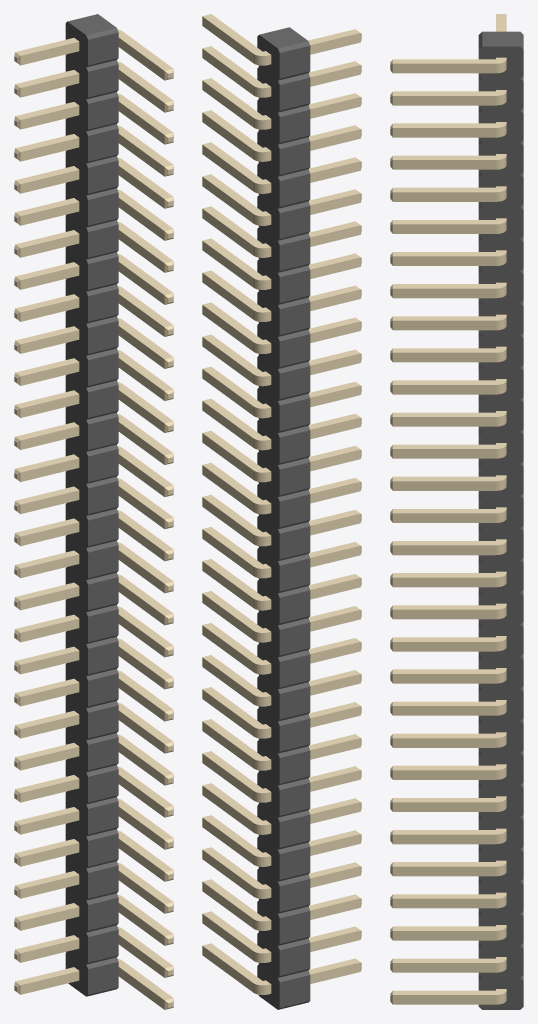
The model's file is PinHeader_1x30_P1.00mm_Horizontal.glb.
The picture shows the model from 3 angles, left to right: view 1: azimuth 30°, elevation 25°; view 2: azimuth 210°, elevation 25°; view 3: azimuth 270°, elevation 25°; orthographic projection.
Visible parts, largest first — view 1: Shape_IndexedFaceSet.004, Shape_IndexedFaceSet.010, Shape_IndexedFaceSet.028, Shape_IndexedFaceSet.034, Shape_IndexedFaceSet.118, Shape_IndexedFaceSet.130, Shape_IndexedFaceSet.154, Shape_IndexedFaceSet.160, Shape_IndexedFaceSet.166, Shape_IndexedFaceSet.022, Shape_IndexedFaceSet.040, Shape_IndexedFaceSet.046 (+110 smaller); view 2: Shape_IndexedFaceSet.003, Shape_IndexedFaceSet.115, Shape_IndexedFaceSet.043, Shape_IndexedFaceSet.049, Shape_IndexedFaceSet.055, Shape_IndexedFaceSet.109, Shape_IndexedFaceSet.175, Shape_IndexedFaceSet.013, Shape_IndexedFaceSet.019, Shape_IndexedFaceSet.079, Shape_IndexedFaceSet.085, Shape_IndexedFaceSet.091 (+110 smaller); view 3: Shape_IndexedFaceSet.003, Shape_IndexedFaceSet.495, Shape_IndexedFaceSet.445, Shape_IndexedFaceSet.450, Shape_IndexedFaceSet.456, Shape_IndexedFaceSet.510, Shape_IndexedFaceSet.530, Shape_IndexedFaceSet.536, Shape_IndexedFaceSet.540, Shape_IndexedFaceSet.566, Shape_IndexedFaceSet.570, Shape_IndexedFaceSet.425 (+50 smaller).
Part boxes in pixels (box(x1,y1,x2,y2)): Shape_IndexedFaceSet.004: box(65, 21, 87, 996); Shape_IndexedFaceSet.010: box(88, 64, 118, 97); Shape_IndexedFaceSet.028: box(88, 160, 118, 193); Shape_IndexedFaceSet.034: box(88, 192, 118, 225); Shape_IndexedFaceSet.118: box(88, 641, 118, 674); Shape_IndexedFaceSet.130: box(88, 705, 118, 738); Shape_IndexedFaceSet.154: box(88, 833, 118, 866); Shape_IndexedFaceSet.160: box(88, 865, 118, 898); Shape_IndexedFaceSet.166: box(88, 897, 118, 930); Shape_IndexedFaceSet.022: box(88, 128, 118, 161); Shape_IndexedFaceSet.040: box(88, 224, 118, 257); Shape_IndexedFaceSet.046: box(88, 256, 118, 289); Shape_IndexedFaceSet.003: box(257, 35, 279, 1009); Shape_IndexedFaceSet.115: box(279, 622, 310, 655); Shape_IndexedFaceSet.043: box(279, 238, 310, 270); Shape_IndexedFaceSet.049: box(279, 270, 310, 302); Shape_IndexedFaceSet.055: box(279, 302, 310, 334); Shape_IndexedFaceSet.109: box(279, 590, 310, 623); Shape_IndexedFaceSet.175: box(279, 943, 310, 975); Shape_IndexedFaceSet.013: box(279, 78, 310, 110); Shape_IndexedFaceSet.019: box(279, 110, 310, 142); Shape_IndexedFaceSet.079: box(279, 430, 310, 462); Shape_IndexedFaceSet.085: box(279, 462, 310, 495); Shape_IndexedFaceSet.091: box(279, 494, 310, 527); Shape_IndexedFaceSet.003: box(478, 46, 523, 1009); Shape_IndexedFaceSet.495: box(392, 545, 495, 555); Shape_IndexedFaceSet.445: box(392, 288, 495, 298); Shape_IndexedFaceSet.450: box(392, 320, 495, 330); Shape_IndexedFaceSet.456: box(392, 352, 495, 362); Shape_IndexedFaceSet.510: box(392, 898, 495, 908); Shape_IndexedFaceSet.530: box(392, 866, 495, 876); Shape_IndexedFaceSet.536: box(392, 834, 495, 844); Shape_IndexedFaceSet.540: box(392, 609, 495, 619); Shape_IndexedFaceSet.566: box(392, 577, 495, 587); Shape_IndexedFaceSet.570: box(392, 63, 495, 73); Shape_IndexedFaceSet.425: box(392, 513, 495, 522).
Size of the model in its own units: 1.34 by 11.81 by 1.48.
